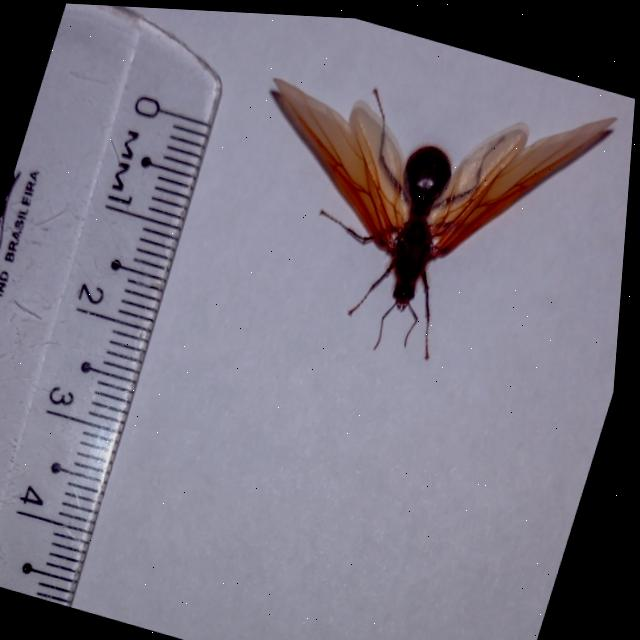Alive-Male-Alate: (204, 18, 623, 392)
